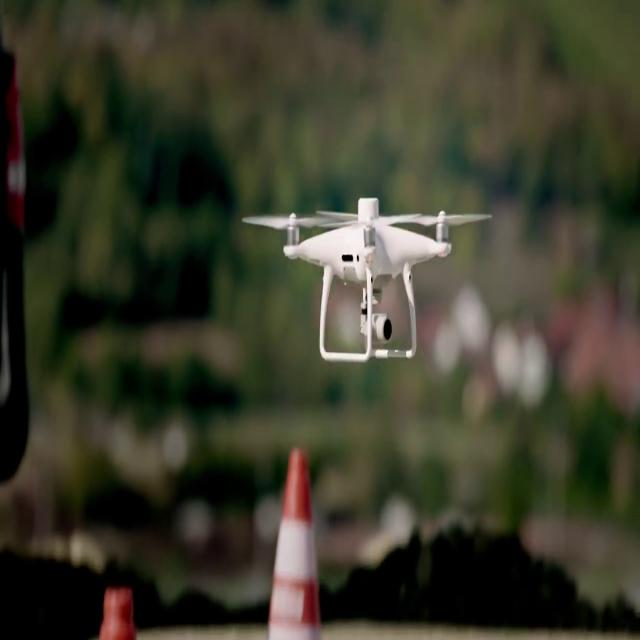drone: (240, 195, 496, 364)
